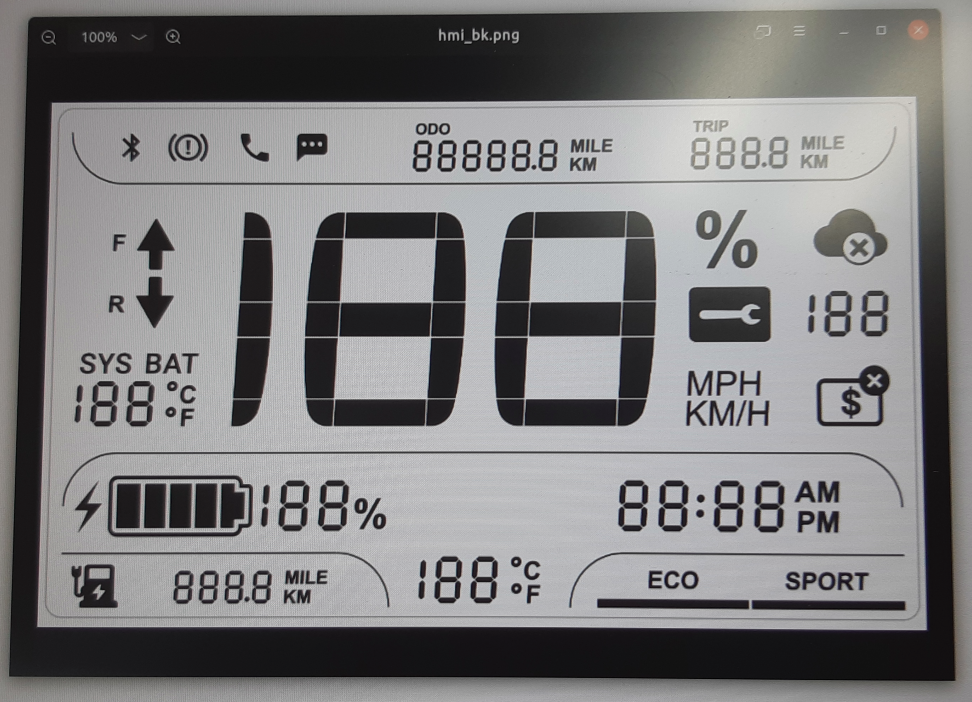bluetooth_on: (117, 129, 144, 165)
braking_on: (163, 128, 211, 166)
calling_on: (238, 130, 273, 164)
connection_lost: (809, 206, 891, 270)
error_code: (685, 282, 774, 346)
low_battery: (68, 560, 124, 611)
sms_on: (293, 130, 331, 164)
vin_id: (812, 362, 893, 430)
